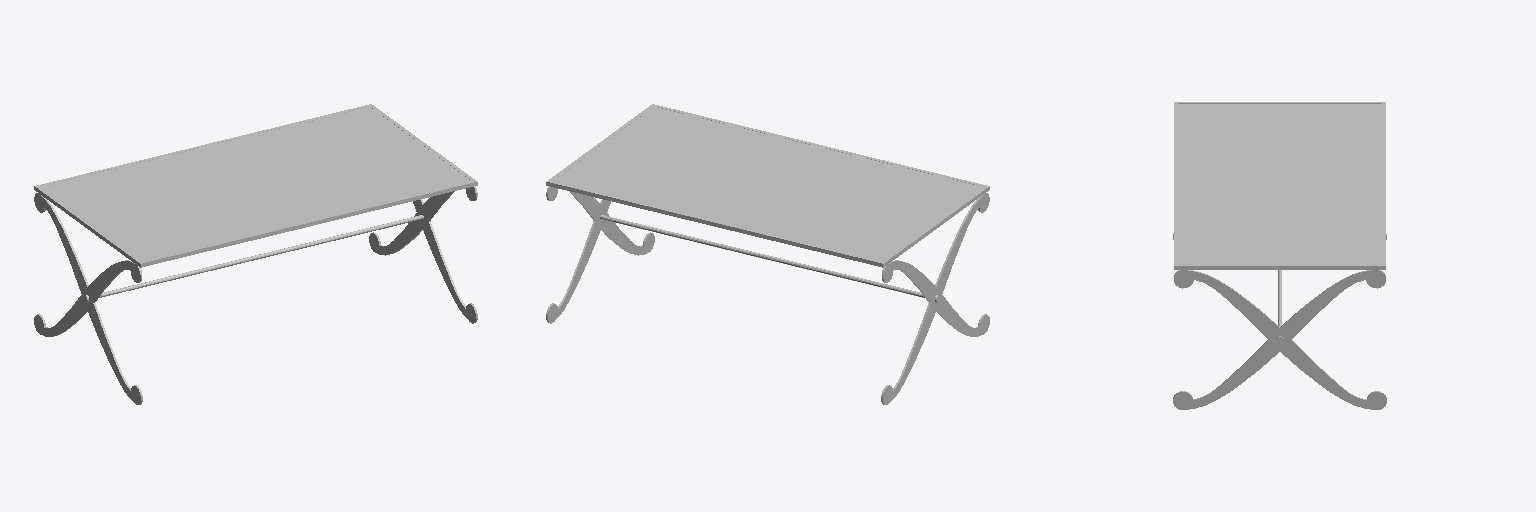
Rendered from cofftabl.obj.
The picture shows the model from 3 angles: view 1: azimuth 30°, elevation 25°; view 2: azimuth 150°, elevation 25°; view 3: azimuth 270°, elevation 25°; orthographic projection.
Visible parts, largest first — view 1: Group_002, OuterShell_002, OuterShell_001, Group_001; view 2: Group_002, OuterShell_002, OuterShell_001, Group_001; view 3: Group_002, OuterShell_001.
Boxes of the visible parts, box(x1,y1,x2,y2) form: Group_002: box(34, 104, 477, 267); OuterShell_002: box(34, 193, 142, 404); OuterShell_001: box(369, 186, 477, 323); Group_001: box(84, 215, 423, 302); Group_002: box(546, 104, 989, 267); OuterShell_002: box(881, 193, 989, 404); OuterShell_001: box(546, 186, 654, 323); Group_001: box(600, 215, 939, 302); Group_002: box(1174, 102, 1385, 269); OuterShell_001: box(1173, 270, 1386, 409).
Bounding box in the file's own units: 44.5 × 18 × 24.17.